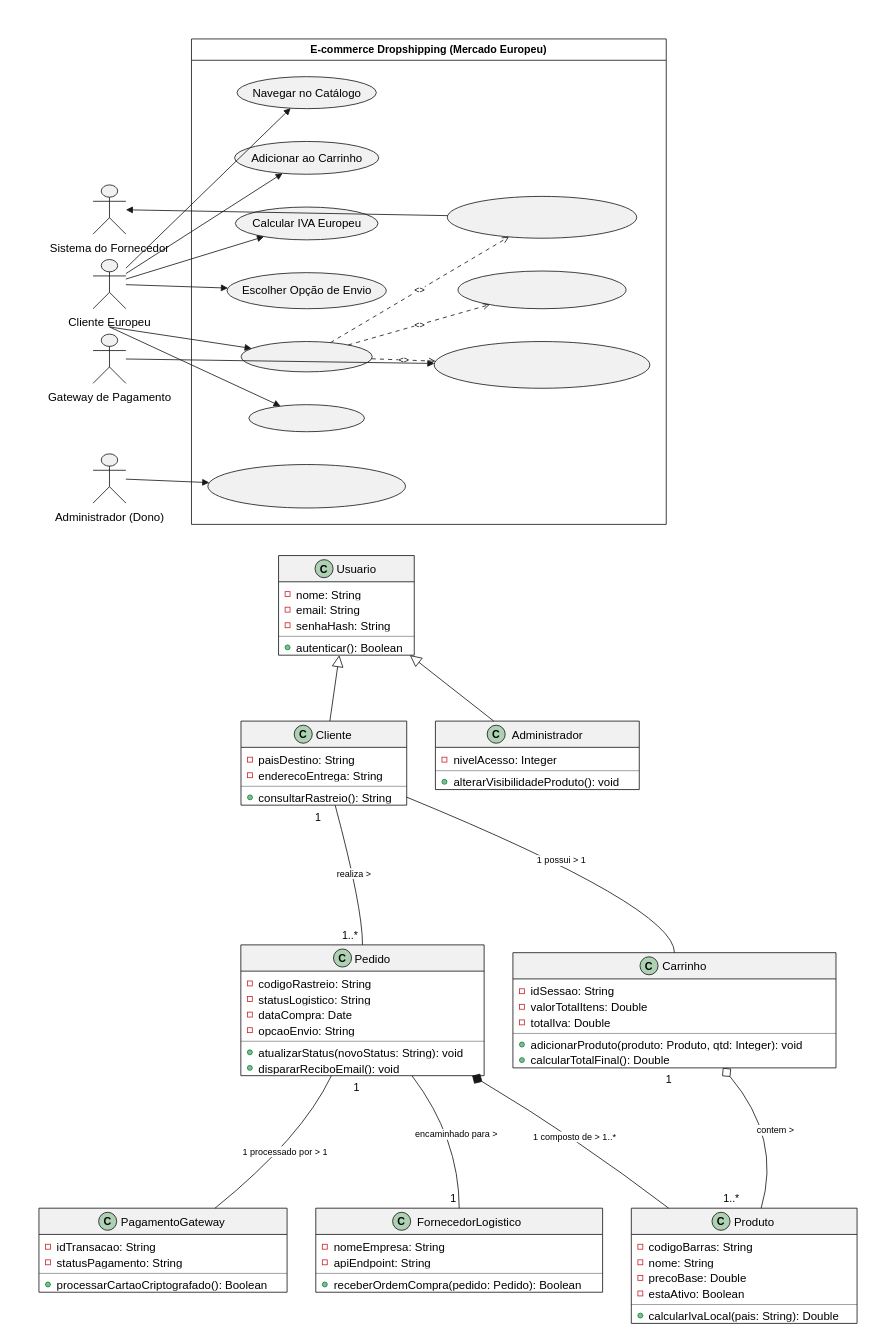
Image size: 872x1337. Some labels were removed from this diagram. Here are the shapes that lost their labels. From the top down, the centre of each, then its label:
At (541,217): "Encaminhar Ordem de Compra".
At (541,289): "Disparar Recibo Eletrónico".
At (306,356): "Finalizar Checkout".
At (541,364): "Processar Pagamento Criptografado".
At (306,418): "Rastrear Pedido".
At (306,486): "Gerir Catálogo (Ativar/Inativar)".
